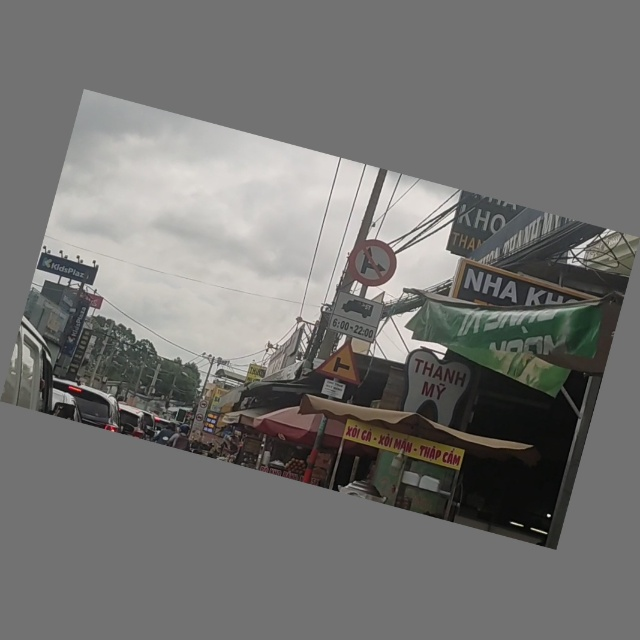P.139: (346, 236, 400, 291)
S.505a*Xe tai: (328, 293, 385, 342)
W.205b: (316, 337, 372, 385)
